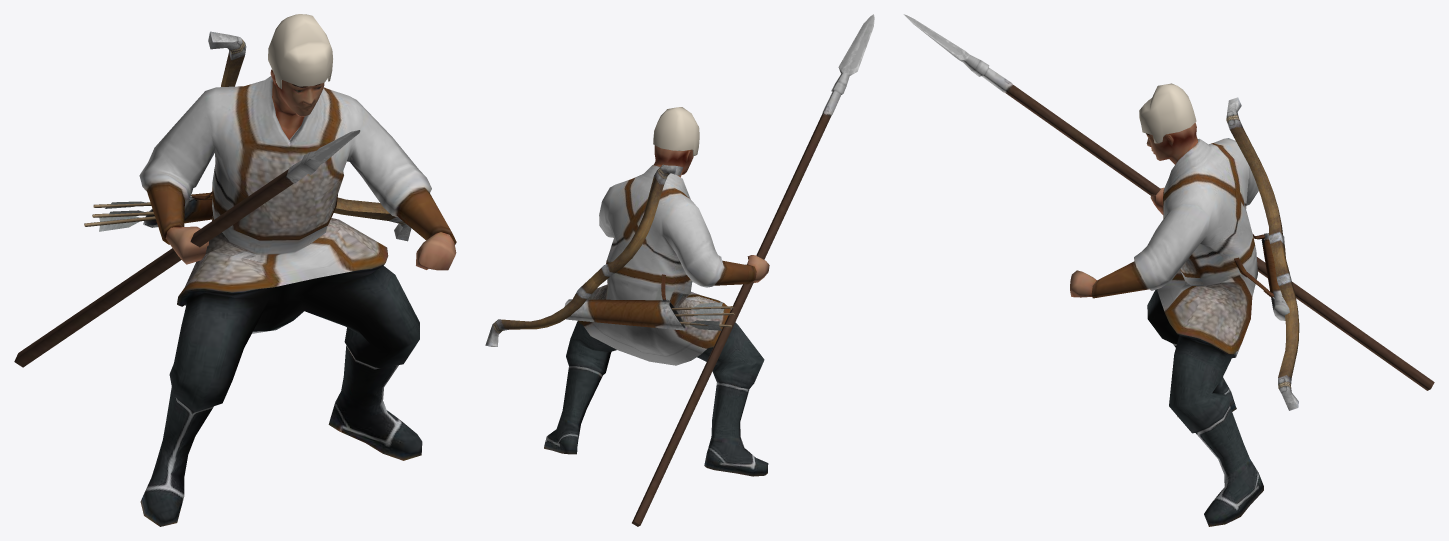
The model's file is rider-mediumcavalry.glb.
3 renders of one model, left to right at view 1: azimuth 30°, elevation 25°; view 2: azimuth 150°, elevation 25°; view 3: azimuth 270°, elevation 25°, orthographic. The views are drawn at different scales.
Size of the model in its own units: 1.36 by 2.06 by 2.39.
4 materials, 3 textured.
